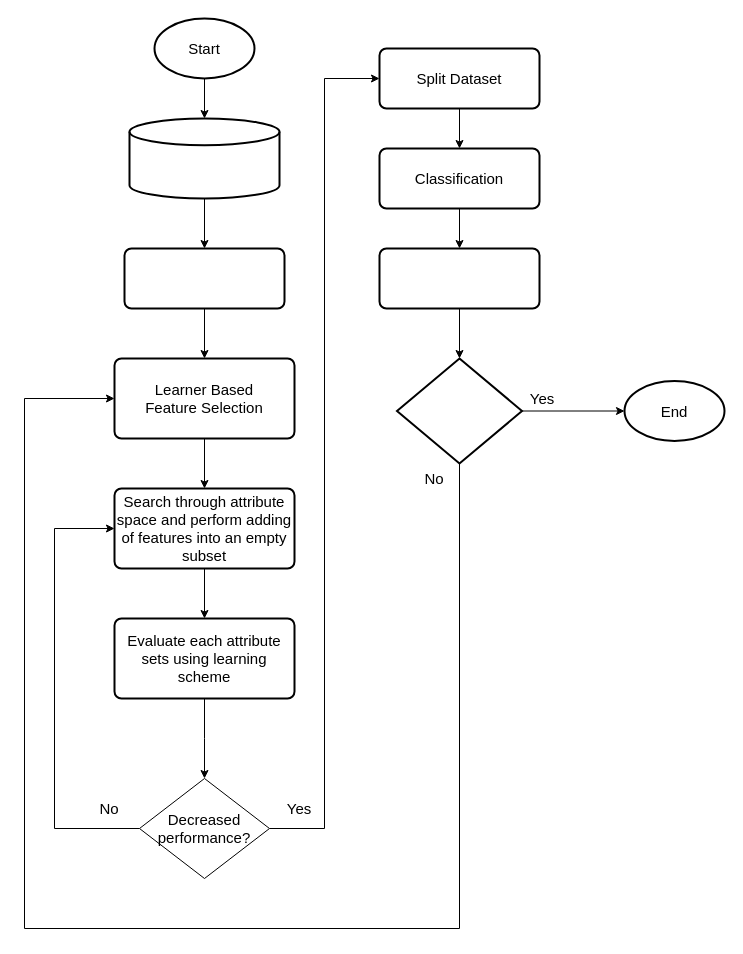
This 743x954 diagram has some shape labels left out. The shapes that lost their labels are listed below. From the top down, each one's centre as x and y in pixels, then its label:
pixel 204 158: WDBC Dataset
pixel 204 278: Data preprocessing
pixel 459 278: Performance Evaluation
pixel 459 410: Desired result?
